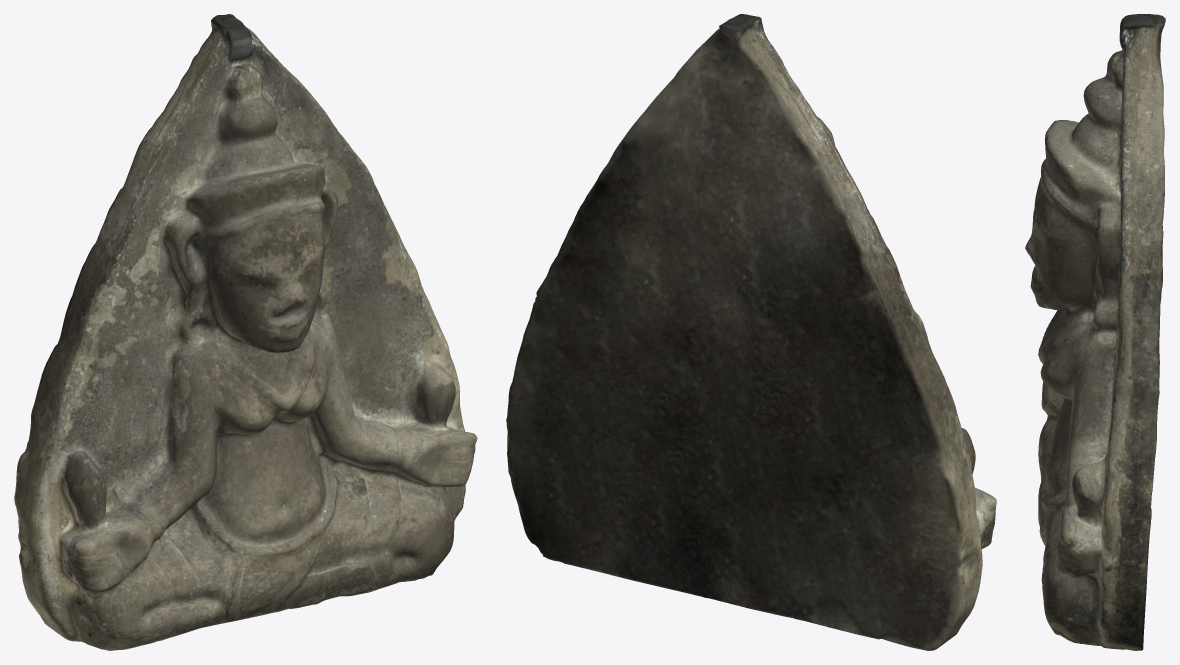
File: 29_laskmi_final.glb
3 renders of one model, left to right at view 1: azimuth 30°, elevation 25°; view 2: azimuth 150°, elevation 25°; view 3: azimuth 270°, elevation 25°, orthographic. The views are drawn at different scales.
Size of the model in its own units: 0.288 by 0.3543 by 0.0829.
Materials: 1 (1 with a texture image).
